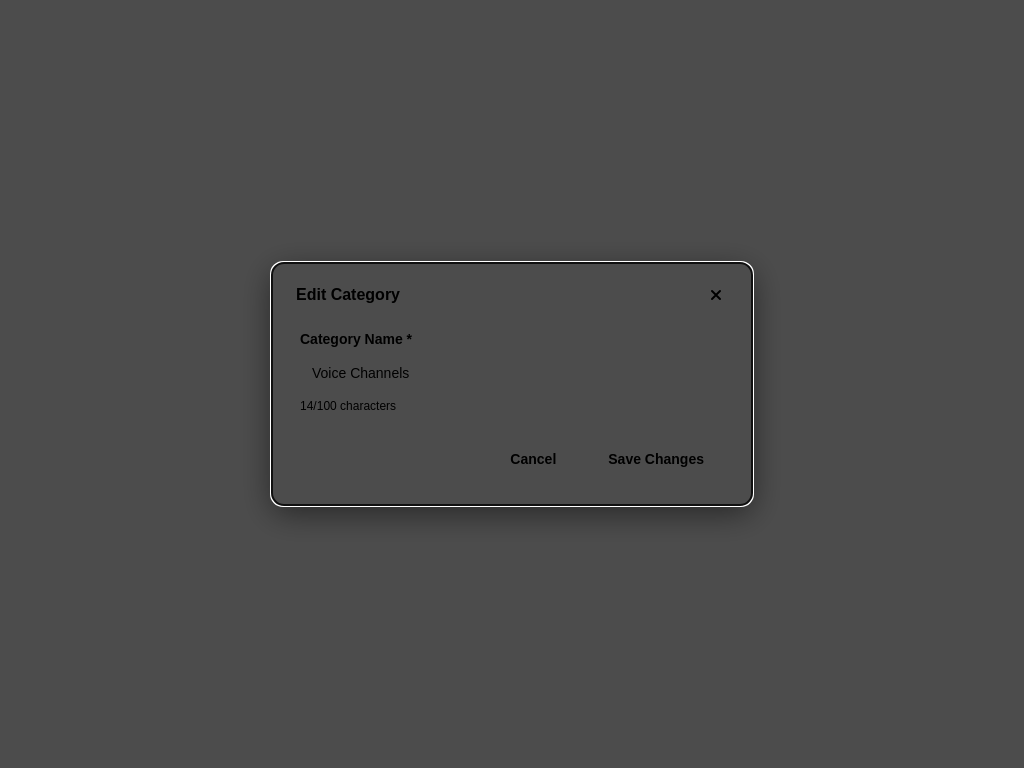
Test: EditCategoryModal › submits valid form successfully
Replace the text in the field showing "Voice Channels" with "Renamed Category": (512, 373) left=300, top=355, right=724, bottom=391
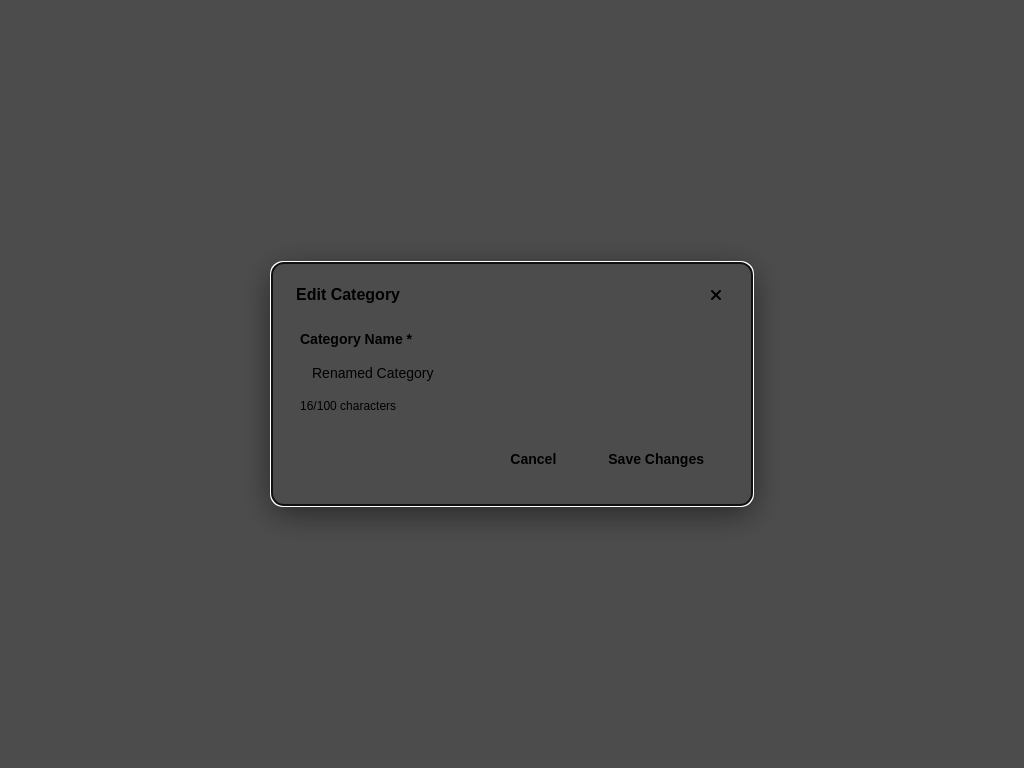
Click the button "Save Changes": (656, 459) left=588, top=441, right=724, bottom=477
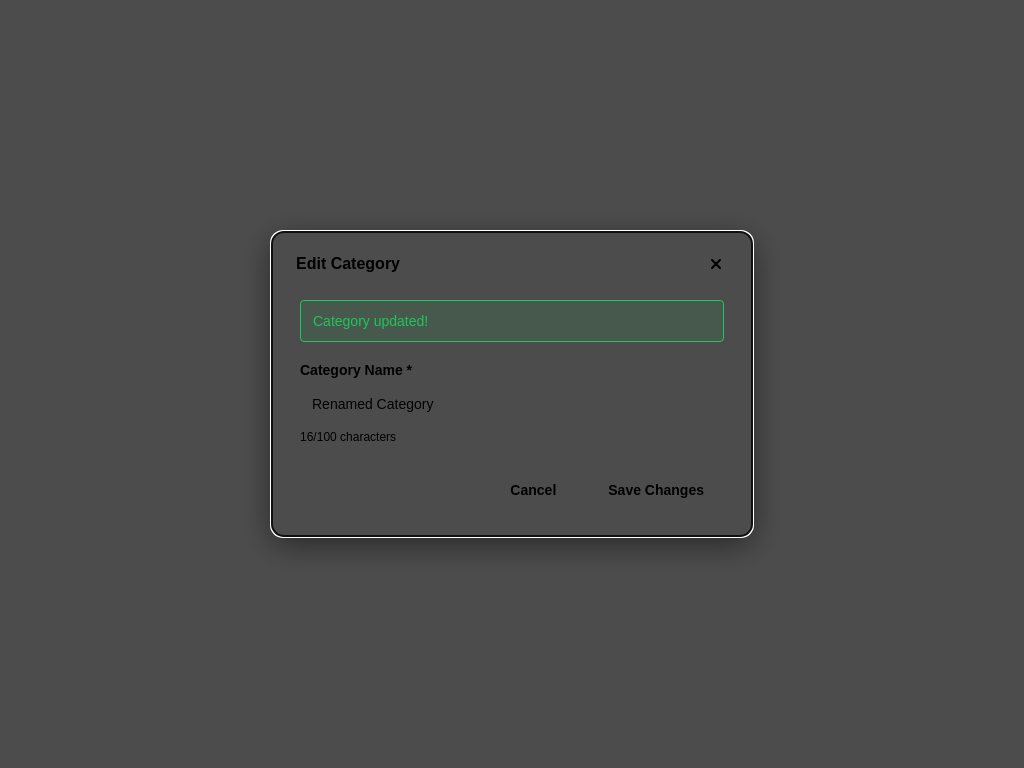
Expected: the text "Category updated!" is shown, left=300, top=300, right=724, bottom=342
